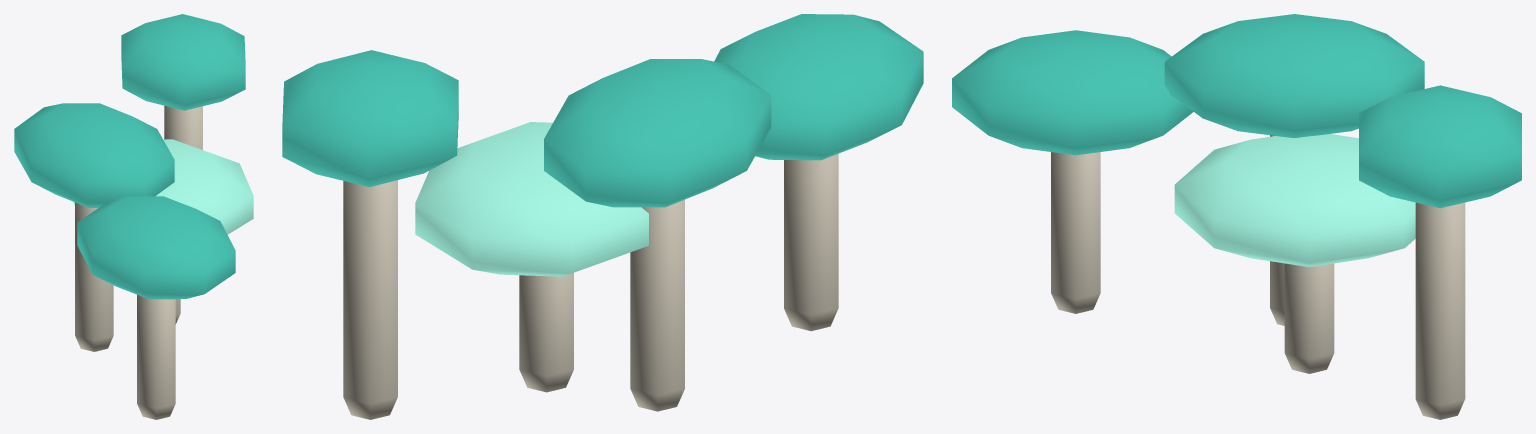
The model's file is prop_mush2_91ba.glb.
3 views of the same model, side by side, from view 1: azimuth 30°, elevation 25°; view 2: azimuth 150°, elevation 25°; view 3: azimuth 270°, elevation 25° (orthographic). The views are drawn at different scales.
Visible parts, largest first — view 1: prop_mush2_91ba; view 2: prop_mush2_91ba; view 3: prop_mush2_91ba.
Boxes of the visible parts, x1,y1,x2,y2 form: prop_mush2_91ba: (14,14,253,419); prop_mush2_91ba: (282,14,923,419); prop_mush2_91ba: (952,14,1521,419).
Size of the model in its own units: 0.3366 by 0.2716 by 0.4397.
2 materials, 2 textured.
